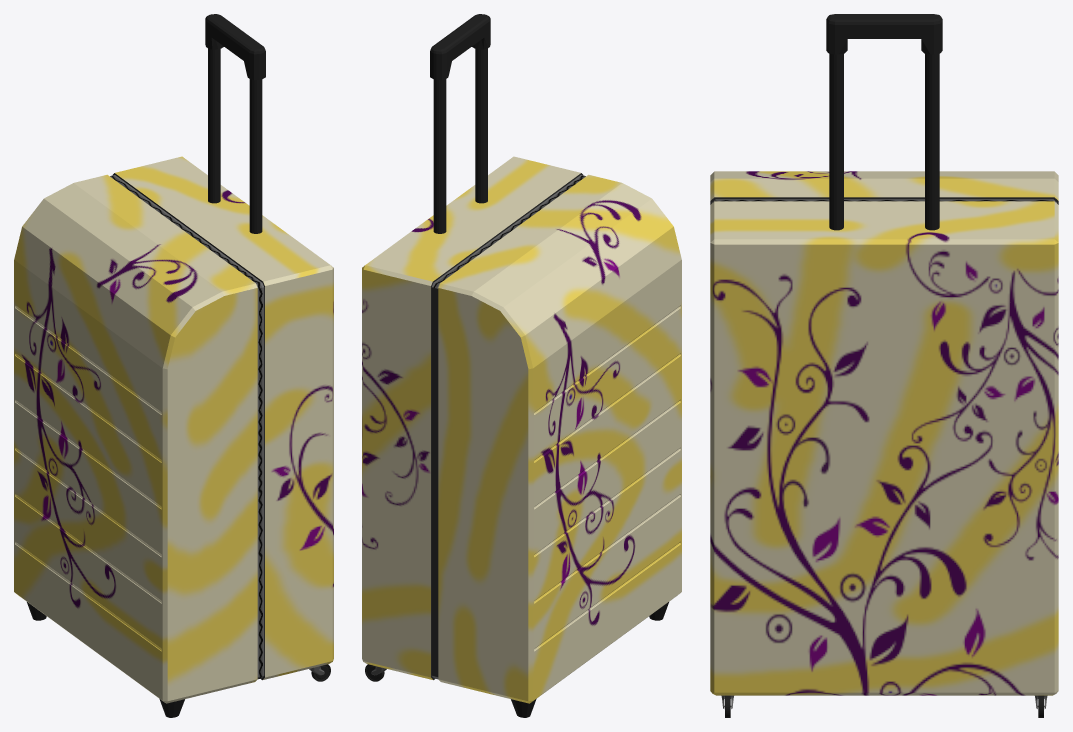
The model's file is Luggage.dae.
3 renders of one model, left to right at view 1: azimuth 30°, elevation 25°; view 2: azimuth 150°, elevation 25°; view 3: azimuth 270°, elevation 25°, orthographic. The views are drawn at different scales.
Parts seen in each view (by area): view 1: Case, handle; view 2: Case, handle; view 3: Case, handle.
Part boxes in pixels (x1,y1,x2,y2): Case: (14, 156, 333, 703); handle: (205, 14, 265, 233); Case: (362, 156, 681, 703); handle: (430, 14, 490, 233); Case: (710, 171, 1058, 695); handle: (826, 14, 942, 230).
Size of the model in its own units: 1.31 by 2 by 4.37.
Materials: 3 (1 with a texture image).
